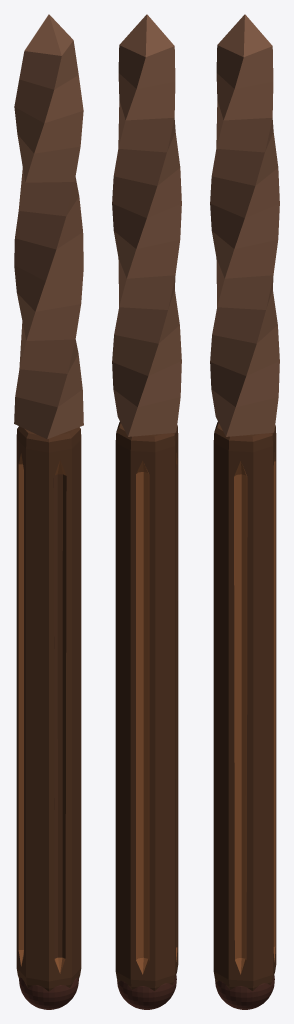
The model's file is Wand 553.glb.
3 renders of one model, left to right at view 1: azimuth 90°, elevation 25°; view 2: azimuth 150°, elevation 25°; view 3: azimuth 330°, elevation 25°, orthographic.
Parts seen in each view (by area): view 1: GeneratedWand; view 2: GeneratedWand; view 3: GeneratedWand.
Boxes of the visible parts, left/top/right/bottom form: GeneratedWand: left=14, top=14, right=83, bottom=1009; GeneratedWand: left=112, top=14, right=181, bottom=1009; GeneratedWand: left=210, top=14, right=279, bottom=1009.
Bounding box in the file's own units: 0.0311 × 0.4889 × 0.0311.
